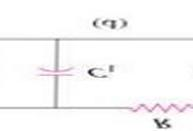resistor: (127, 96, 190, 115)
